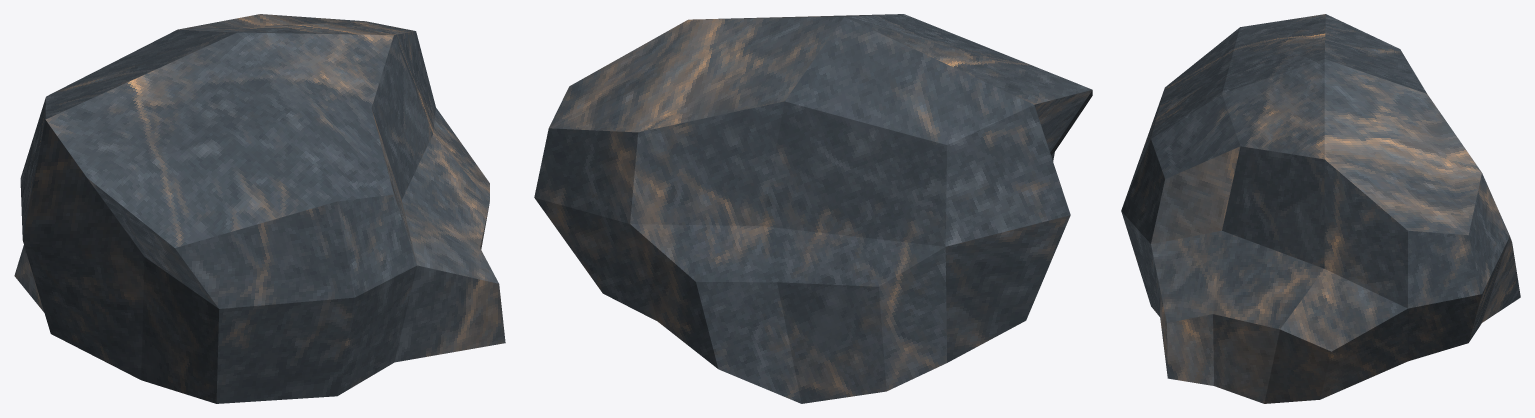
The model's file is Rock2.glb.
3 views of the same model, side by side, from view 1: azimuth 30°, elevation 25°; view 2: azimuth 150°, elevation 25°; view 3: azimuth 270°, elevation 25° (orthographic). The views are drawn at different scales.
Parts seen in each view (by area): view 1: Cube; view 2: Cube; view 3: Cube.
Part boxes in pixels (left/top/right/bottom): Cube: left=14, top=14, right=505, bottom=403; Cube: left=534, top=14, right=1092, bottom=403; Cube: left=1121, top=14, right=1520, bottom=403.
Bounding box in the file's own units: 2.81 × 1.72 × 2.37.
Materials: 1 (1 with a texture image).
